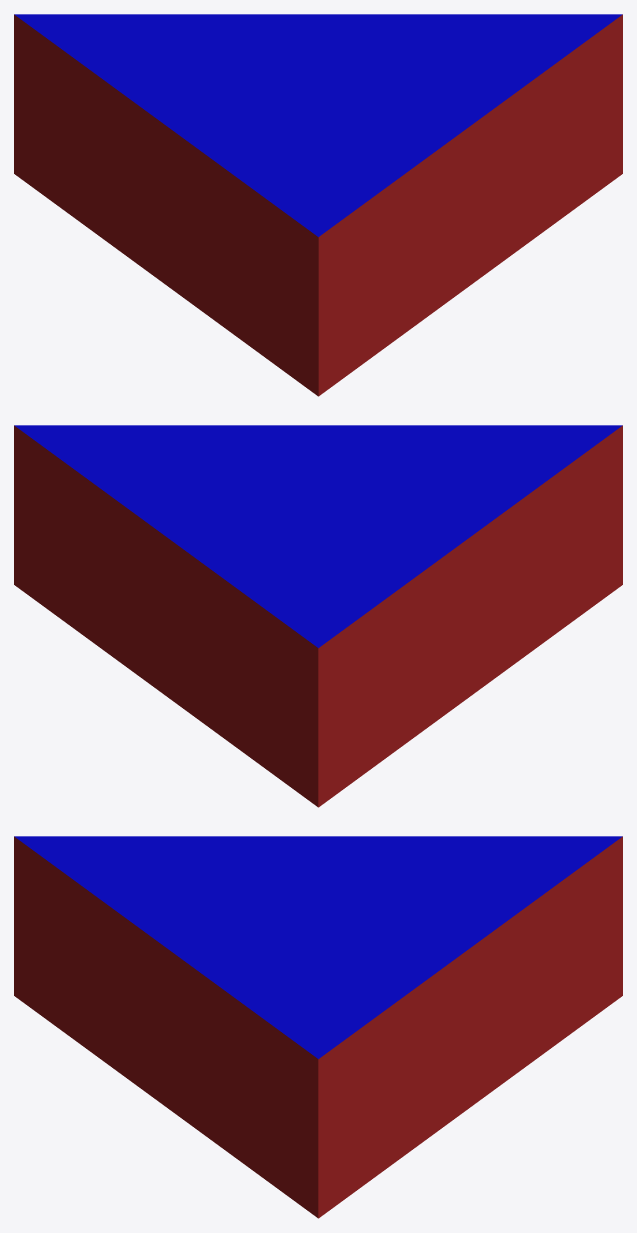
Rendered from Triangle2.dae.
The picture shows the model from 3 angles, top to bottom: view 1: azimuth 30°, elevation 25°; view 2: azimuth 150°, elevation 25°; view 3: azimuth 270°, elevation 25°; orthographic projection.
Visible parts, largest first — view 1: skp1F7D (×2); view 2: skp1F7D (×2); view 3: skp1F7D (×2).
Part boxes in pixels (<box>): skp1F7D (×2): <box>14,14,622,396</box>; skp1F7D (×2): <box>14,425,622,807</box>; skp1F7D (×2): <box>14,836,622,1218</box>.
Size of the model in its own units: 590 by 682 by 197.
